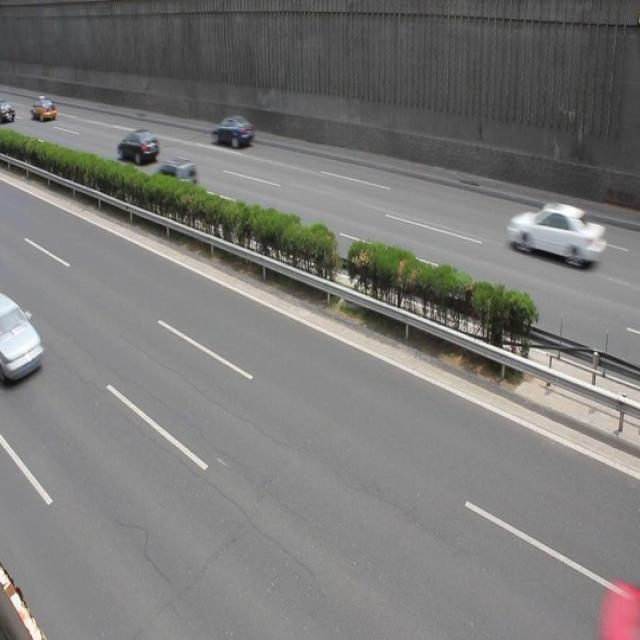car: (508, 201, 598, 266), (1, 292, 45, 385), (149, 157, 198, 204), (116, 128, 160, 165), (209, 115, 254, 149)
